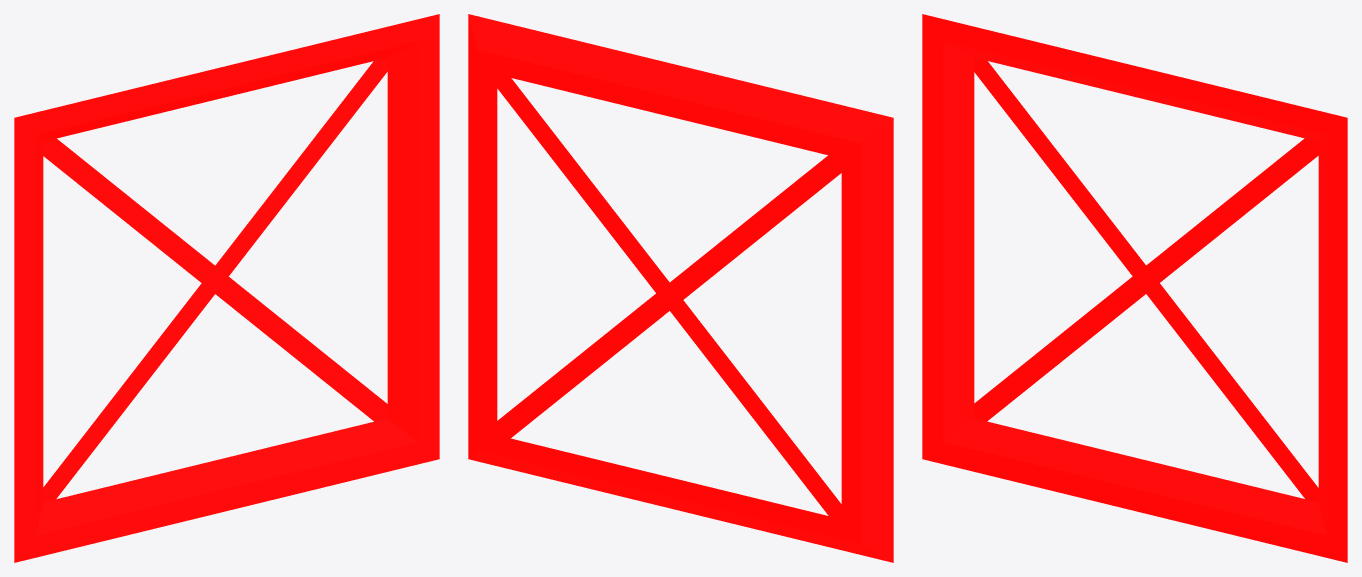
Rendered from tileFlag.glb.
3 renders of one model, left to right at view 1: azimuth 30°, elevation 25°; view 2: azimuth 150°, elevation 25°; view 3: azimuth 330°, elevation 25°, orthographic.
Parts seen in each view (by area): view 1: tileFlag; view 2: tileFlag; view 3: tileFlag.
Part boxes in pixels (x1,y1,x2,y2): tileFlag: (14, 14, 439, 562); tileFlag: (468, 14, 893, 562); tileFlag: (922, 14, 1347, 562).
Bounding box in the file's own units: 2 × 2 × 0.0936.
